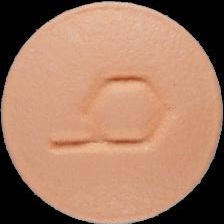0093-6148: (0, 0, 224, 224)
